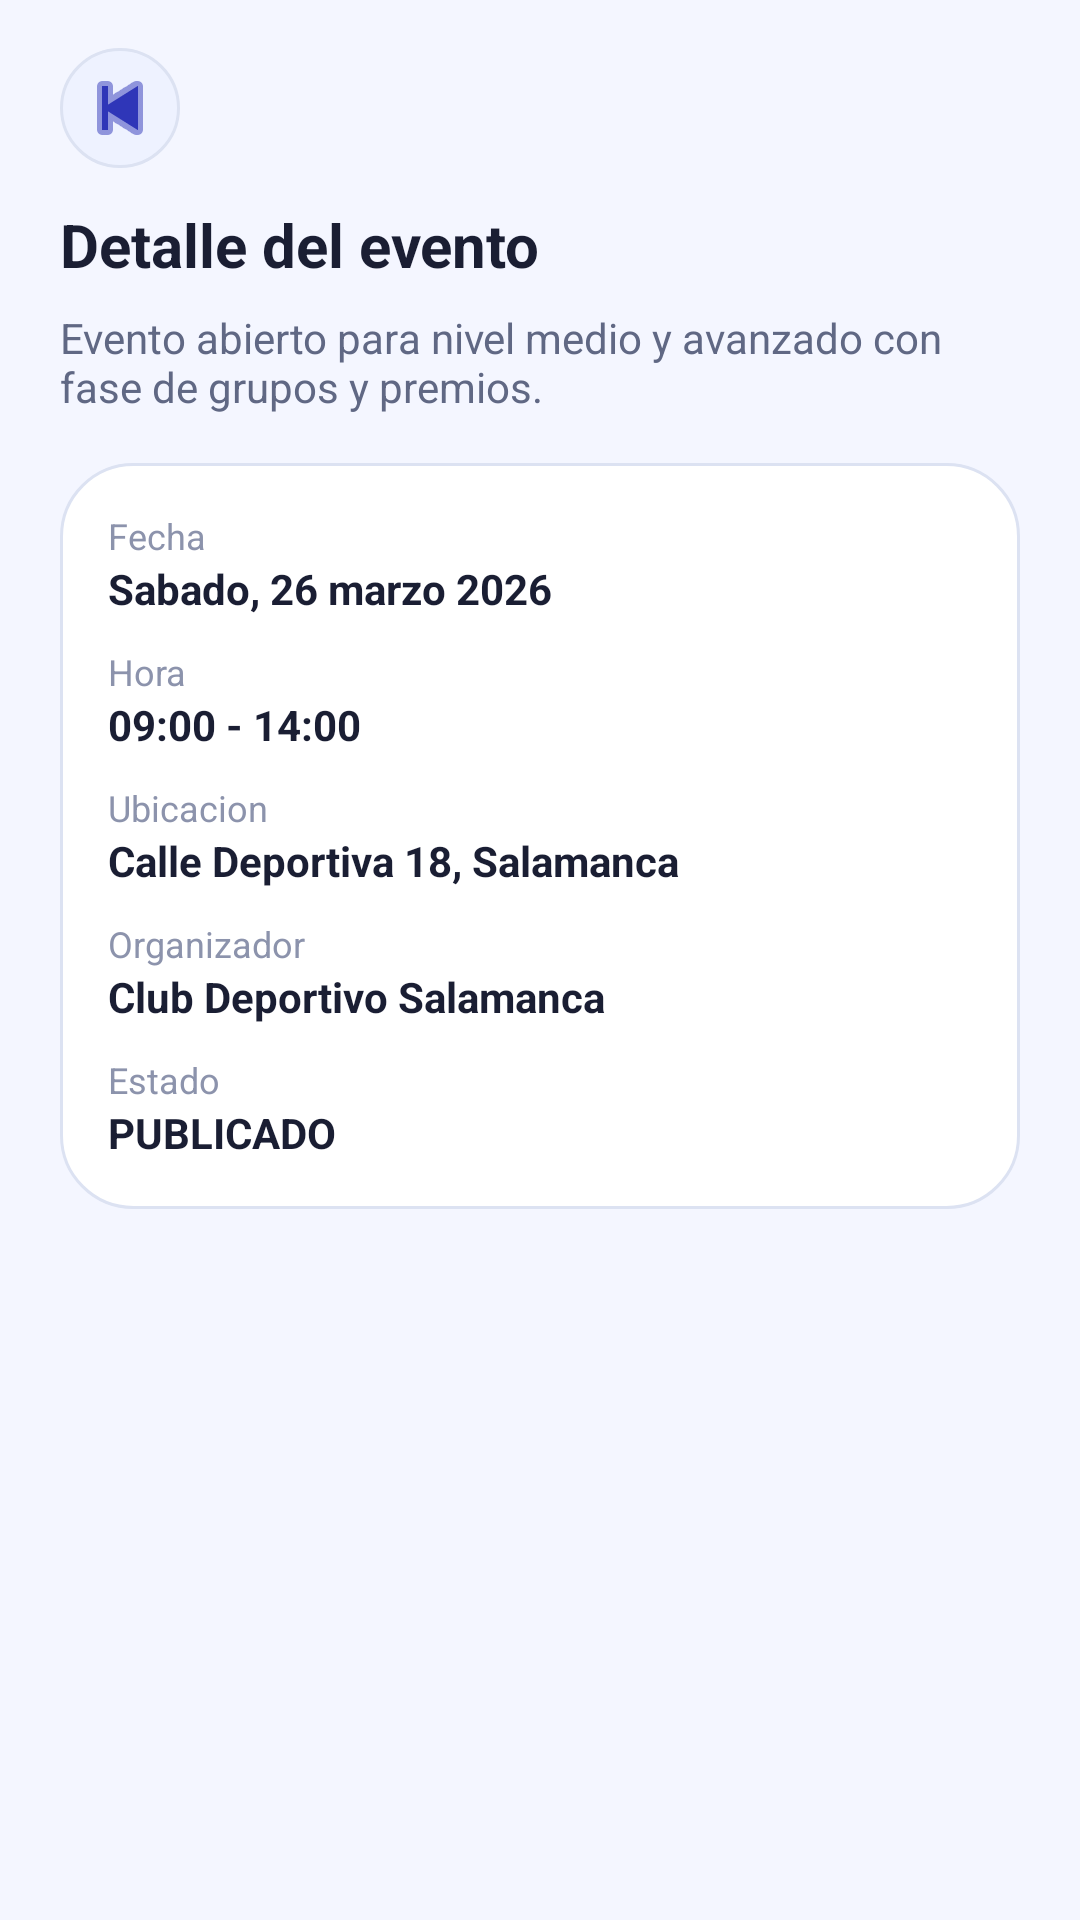

Named icons in this screenshot (1080 × 1920) and their centers, (x=x, y=y):
Volver: (x=120, y=108)
